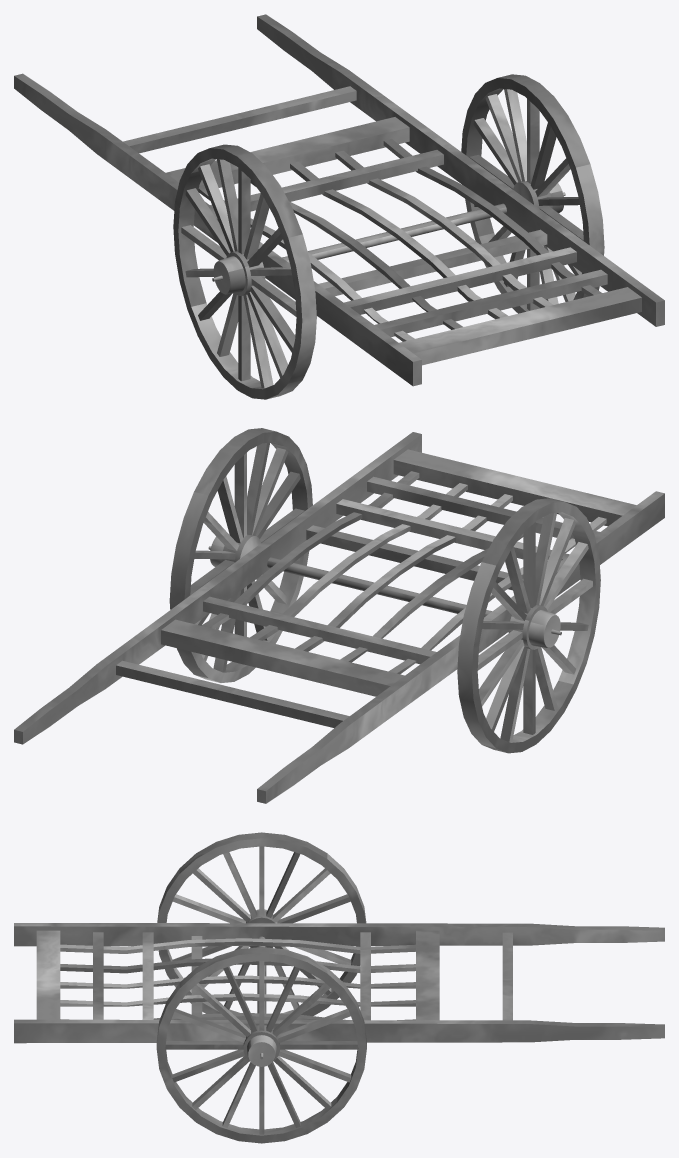
The model's file is SM_cart_03.fbx.
3 renders of one model, top to bottom at view 1: azimuth 30°, elevation 25°; view 2: azimuth 150°, elevation 25°; view 3: azimuth 270°, elevation 25°, orthographic. The views are drawn at different scales.
Parts seen in each view (by area): view 1: SM_cart_03; view 2: SM_cart_03; view 3: SM_cart_03.
Boxes of the visible parts, x1,y1,x2,y2 form: SM_cart_03: (14,14,664,399); SM_cart_03: (14,428,664,803); SM_cart_03: (14,832,664,1143).
Size of the model in its own units: 187 by 366 by 118.
1 material, 1 textured.
